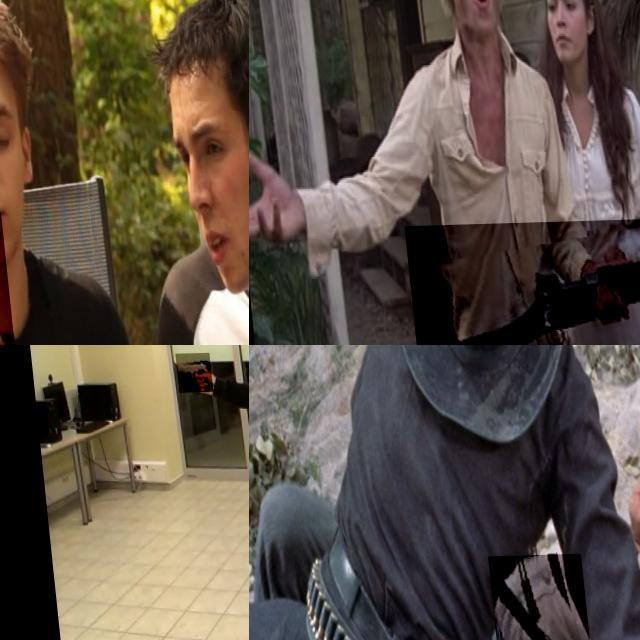-: (0, 213, 56, 345)
gun-knife-thesis - v11 Yolov5 augmented: (395, 217, 640, 345), (479, 556, 590, 640), (169, 354, 206, 394)
